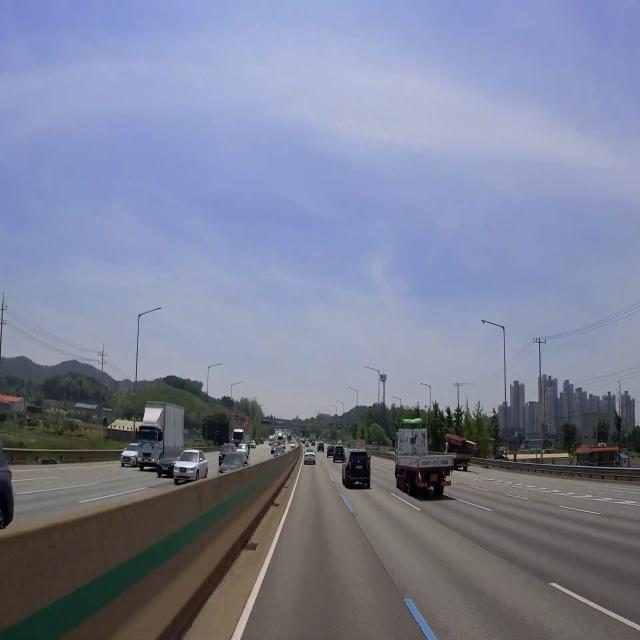car: (430, 471, 439, 483), (355, 464, 364, 471), (123, 456, 130, 463), (161, 466, 169, 472), (179, 472, 187, 478), (141, 455, 150, 460), (307, 458, 313, 462), (337, 451, 341, 456)
